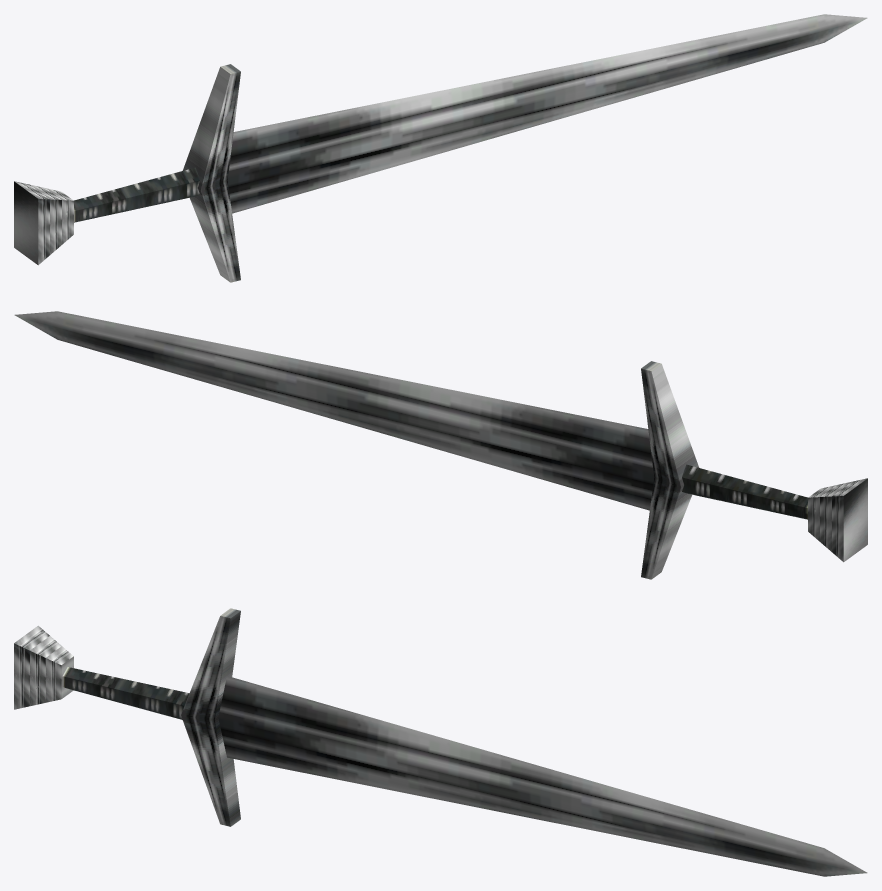
3 renders of one model, top to bottom at view 1: azimuth 30°, elevation 25°; view 2: azimuth 150°, elevation 25°; view 3: azimuth 330°, elevation 25°, orthographic.
Visible parts, largest first — view 1: it10651; view 2: it10651; view 3: it10651.
Boxes of the visible parts, <box> form: it10651: <box>14,14,867,282</box>; it10651: <box>14,311,867,579</box>; it10651: <box>14,608,867,876</box>.
Bounding box in the file's own units: 3.97 × 0.9399 × 0.1982.
2 materials, 2 textured.
